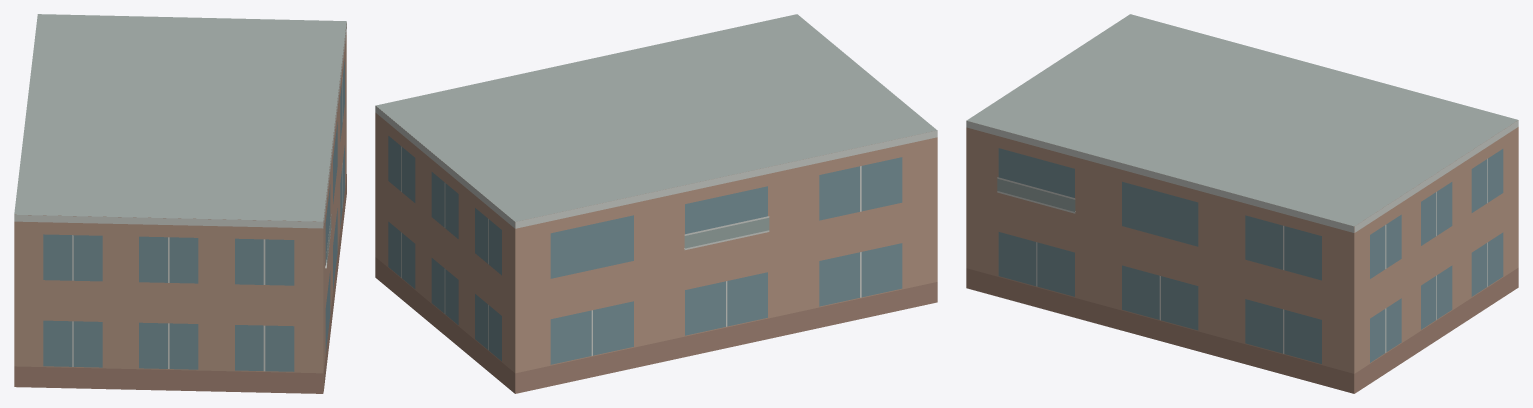
Rendered from survey-upis-33021020.glb.
The picture shows the model from 3 angles, left to right: view 1: azimuth 30°, elevation 25°; view 2: azimuth 150°, elevation 25°; view 3: azimuth 270°, elevation 25°; orthographic projection. The views are drawn at different scales.
Parts seen in each view (by area): view 1: survey-upis-33021020.tmp; view 2: survey-upis-33021020.tmp; view 3: survey-upis-33021020.tmp.
Part boxes in pixels (x1=…): survey-upis-33021020.tmp: x1=14, y1=14, x2=346, y2=393; survey-upis-33021020.tmp: x1=375, y1=14, x2=937, y2=393; survey-upis-33021020.tmp: x1=966, y1=14, x2=1518, y2=393.
Size of the model in its own units: 16.61 by 6.1 by 18.24.
